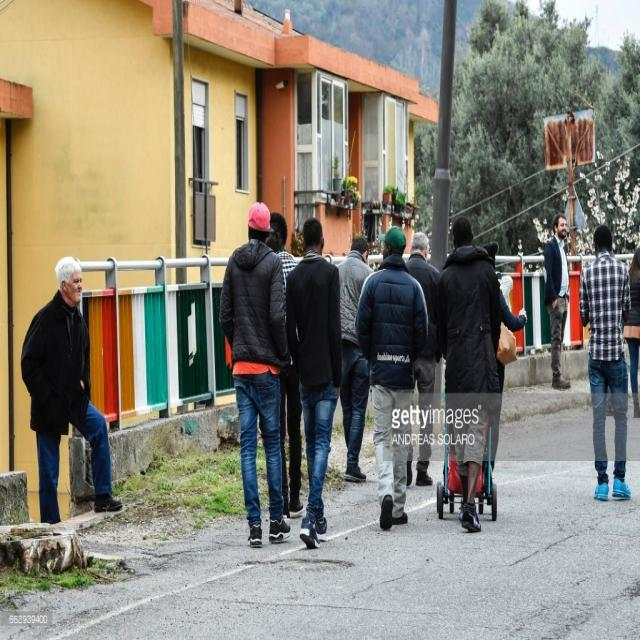body: (18, 255, 124, 526), (217, 201, 293, 549), (352, 224, 428, 532), (433, 214, 503, 533), (284, 216, 343, 550), (577, 222, 632, 502), (264, 212, 306, 521), (333, 235, 376, 485), (482, 242, 527, 471), (404, 232, 444, 488), (542, 212, 572, 390), (622, 243, 640, 420)
